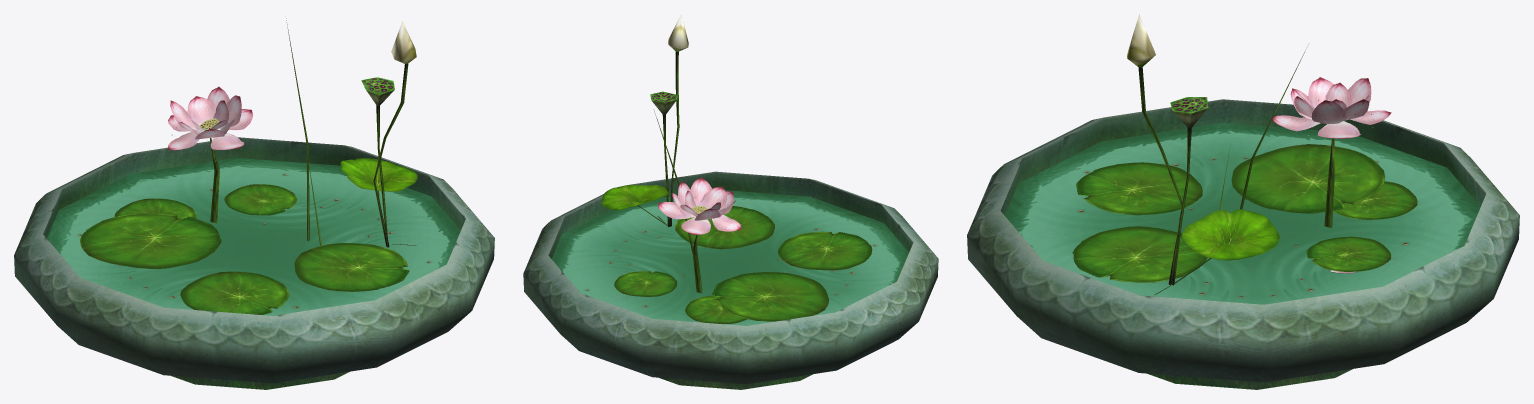
File: wm_灌木荷花坛子02.fbx
3 renders of one model, left to right at view 1: azimuth 30°, elevation 25°; view 2: azimuth 150°, elevation 25°; view 3: azimuth 270°, elevation 25°, orthographic. The views are drawn at different scales.
Visible parts, largest first — view 1: wm_灌木荷花坛子02; view 2: wm_灌木荷花坛子02; view 3: wm_灌木荷花坛子02.
Boxes of the visible parts, x1,y1,x2,y2 form: wm_灌木荷花坛子02: (14,20,494,389); wm_灌木荷花坛子02: (523,14,938,389); wm_灌木荷花坛子02: (967,14,1519,389).
Size of the model in its own units: 125 by 90.94 by 125.
